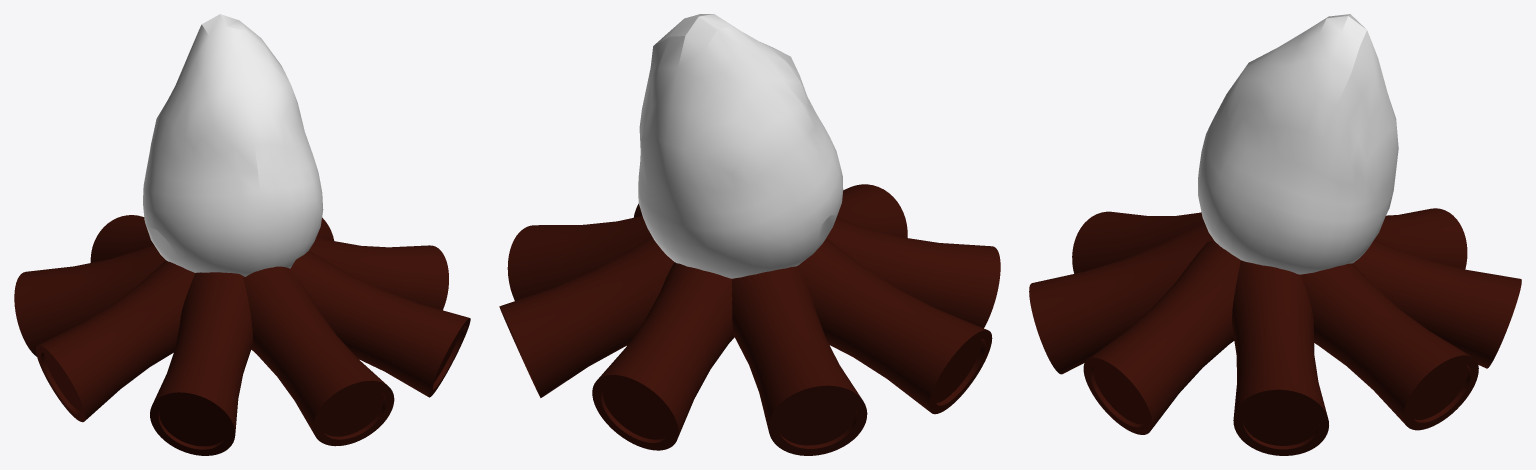
File: fire.fbx
3 views of the same model, side by side, from view 1: azimuth 30°, elevation 25°; view 2: azimuth 150°, elevation 25°; view 3: azimuth 270°, elevation 25° (orthographic). The views are drawn at different scales.
Parts seen in each view (by area): view 1: 柱体.012, 立方体.014; view 2: 柱体.012, 立方体.014; view 3: 柱体.012, 立方体.014.
Boxes of the visible parts, left/top/right/bottom form: 柱体.012: left=14, top=215, right=470, bottom=455; 立方体.014: left=143, top=14, right=323, bottom=276; 柱体.012: left=499, top=184, right=1000, bottom=455; 立方体.014: left=638, top=14, right=843, bottom=278; 柱体.012: left=1029, top=208, right=1521, bottom=455; 立方体.014: left=1198, top=14, right=1398, bottom=274.
Bounding box in the file's own units: 269 × 215 × 269.
